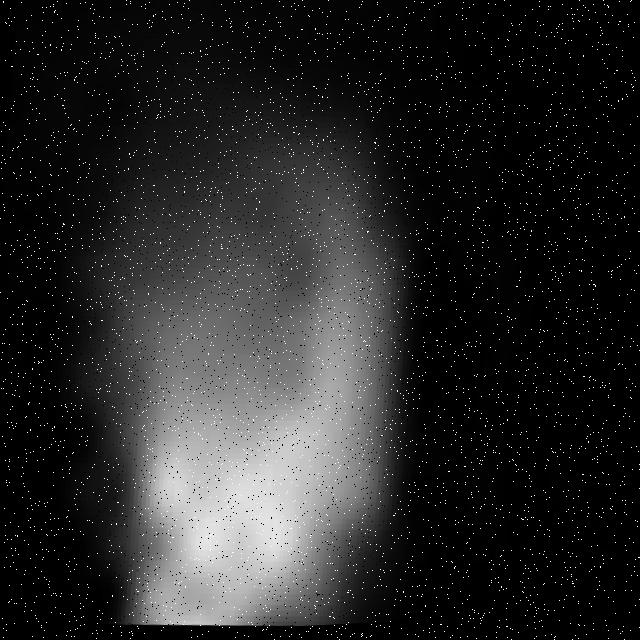person: (90, 74, 410, 638)
